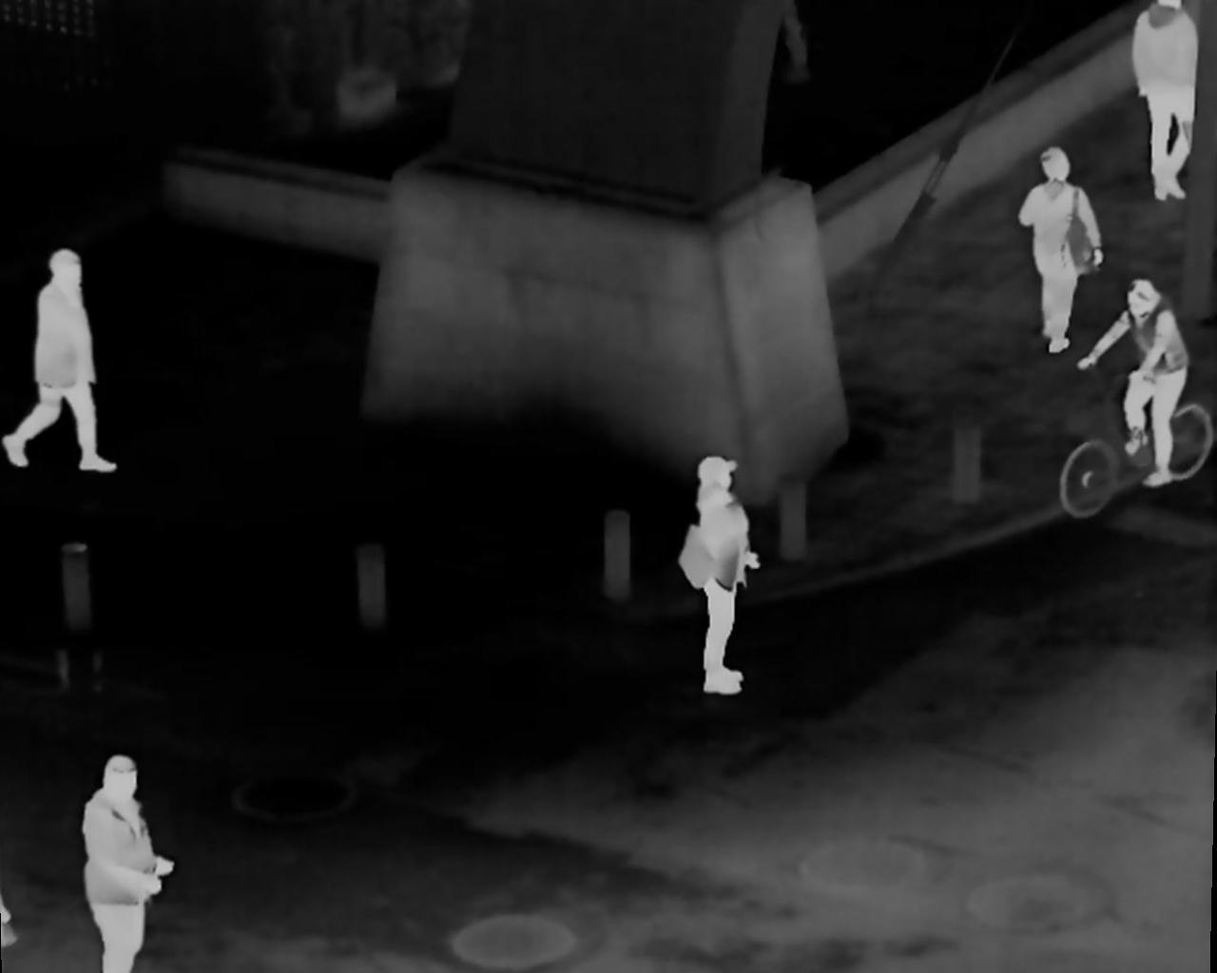person: (13, 251, 113, 465), (679, 457, 762, 694), (1104, 280, 1188, 500), (84, 755, 164, 973), (1035, 142, 1096, 354)
